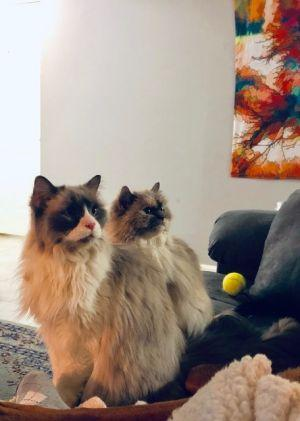ragdoll: (25, 169, 117, 266)
